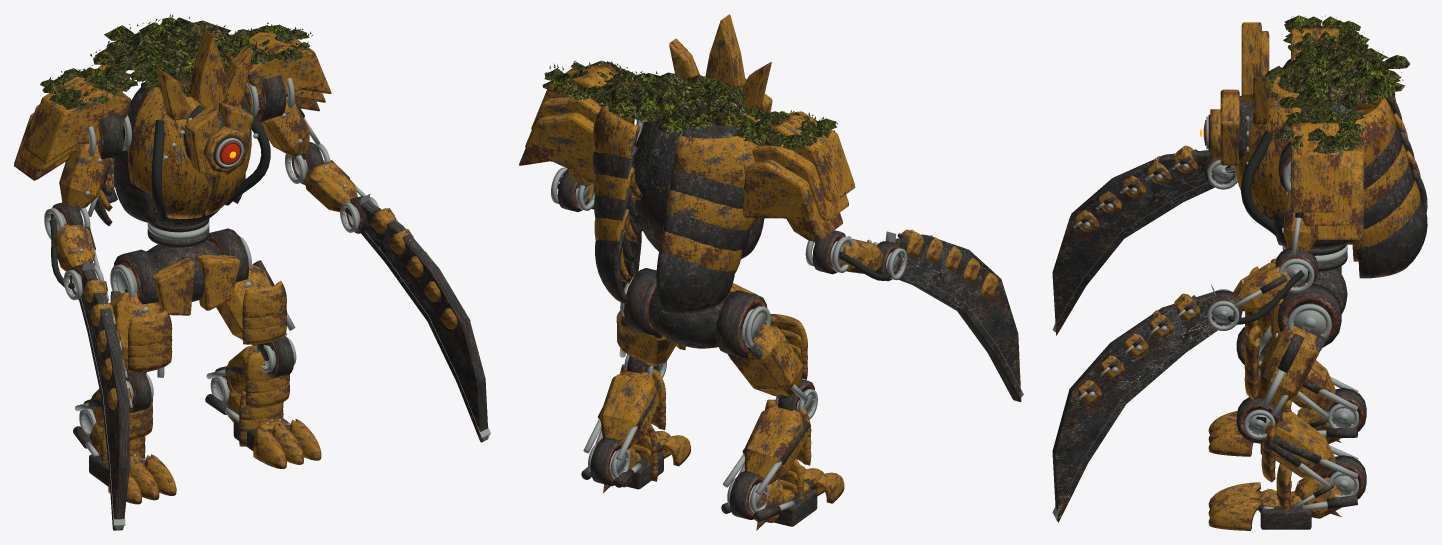
File: moss-reaper-boss.glb
The picture shows the model from 3 angles, left to right: view 1: azimuth 30°, elevation 25°; view 2: azimuth 150°, elevation 25°; view 3: azimuth 270°, elevation 25°; orthographic projection. The views are drawn at different scales.
Visible parts, largest first — view 1: Thorax_Mesh, Boss_shoulder_-1_Mesh, Blade_hand_1_Mesh, Boss_shoulder_1_Mesh, Head_Mesh, Blade_hand_-1_Mesh, Backpack_Mesh, boss_leg_-1_segment_0_Mesh, boss_leg_1_segment_0_Mesh, Pelvis_Mesh, boss_leg_1_segment_1_Mesh, boss_leg_1_foot_Mesh (+6 smaller); view 2: Backpack_Mesh, Boss_shoulder_-1_Mesh, Blade_hand_-1_Mesh, Boss_shoulder_1_Mesh, boss_leg_-1_segment_0_Mesh, Thorax_Mesh, boss_leg_-1_segment_1_Mesh, boss_leg_1_segment_1_Mesh, Head_Mesh, boss_leg_1_segment_0_Mesh, boss_leg_-1_segment_2_Mesh, boss_leg_1_segment_2_Mesh (+5 smaller); view 3: Backpack_Mesh, Blade_hand_1_Mesh, Blade_hand_-1_Mesh, Boss_shoulder_1_Mesh, boss_leg_1_segment_0_Mesh, Thorax_Mesh, Head_Mesh, boss_leg_1_segment_1_Mesh, boss_leg_1_foot_Mesh, Boss_forearm_1_Mesh, boss_leg_1_segment_2_Mesh, boss_leg_-1_segment_2_Mesh (+5 smaller).
Boxes of the visible parts, x1=… form: Thorax_Mesh: x1=114, y1=55, x2=270, y2=247; Boss_shoulder_-1_Mesh: x1=14, y1=65, x2=137, y2=216; Blade_hand_1_Mesh: x1=340, y1=194, x2=490, y2=442; Boss_shoulder_1_Mesh: x1=223, y1=22, x2=331, y2=164; Head_Mesh: x1=156, y1=29, x2=253, y2=176; Blade_hand_-1_Mesh: x1=63, y1=263, x2=132, y2=530; Backpack_Mesh: x1=90, y1=14, x2=235, y2=225; boss_leg_-1_segment_0_Mesh: x1=109, y1=249, x2=172, y2=381; boss_leg_1_segment_0_Mesh: x1=207, y1=228, x2=295, y2=360; Pelvis_Mesh: x1=147, y1=240, x2=239, y2=315; boss_leg_1_segment_1_Mesh: x1=206, y1=335, x2=296, y2=408; boss_leg_1_foot_Mesh: x1=233, y1=418, x2=321, y2=468; Backpack_Mesh: x1=592, y1=71, x2=757, y2=314; Boss_shoulder_-1_Mesh: x1=730, y1=105, x2=855, y2=242; Blade_hand_-1_Mesh: x1=872, y1=229, x2=1023, y2=401; Boss_shoulder_1_Mesh: x1=519, y1=60, x2=643, y2=189; boss_leg_-1_segment_0_Mesh: x1=716, y1=290, x2=808, y2=404; Thorax_Mesh: x1=629, y1=79, x2=764, y2=259; boss_leg_-1_segment_1_Mesh: x1=723, y1=379, x2=817, y2=495; boss_leg_1_segment_1_Mesh: x1=583, y1=354, x2=666, y2=461; Head_Mesh: x1=669, y1=14, x2=772, y2=119; boss_leg_1_segment_0_Mesh: x1=616, y1=268, x2=685, y2=372; boss_leg_-1_segment_2_Mesh: x1=721, y1=459, x2=804, y2=522; boss_leg_1_segment_2_Mesh: x1=581, y1=423, x2=657, y2=487; Backpack_Mesh: x1=1276, y1=37, x2=1427, y2=278; Blade_hand_1_Mesh: x1=1052, y1=284, x2=1242, y2=522; Blade_hand_-1_Mesh: x1=1052, y1=145, x2=1237, y2=335; Boss_shoulder_1_Mesh: x1=1273, y1=107, x2=1366, y2=254; boss_leg_1_segment_0_Mesh: x1=1244, y1=283, x2=1341, y2=422; Thorax_Mesh: x1=1235, y1=65, x2=1357, y2=271; Head_Mesh: x1=1200, y1=22, x2=1281, y2=166; boss_leg_1_segment_1_Mesh: x1=1236, y1=397, x2=1358, y2=488; boss_leg_1_foot_Mesh: x1=1208, y1=482, x2=1341, y2=530; Boss_forearm_1_Mesh: x1=1228, y1=247, x2=1317, y2=324; boss_leg_1_segment_2_Mesh: x1=1276, y1=455, x2=1366, y2=518; boss_leg_-1_segment_2_Mesh: x1=1281, y1=388, x2=1366, y2=443.
Size of the model in its own units: 3.39 by 3.81 by 2.78.
Materials: 8 (4 with a texture image).
